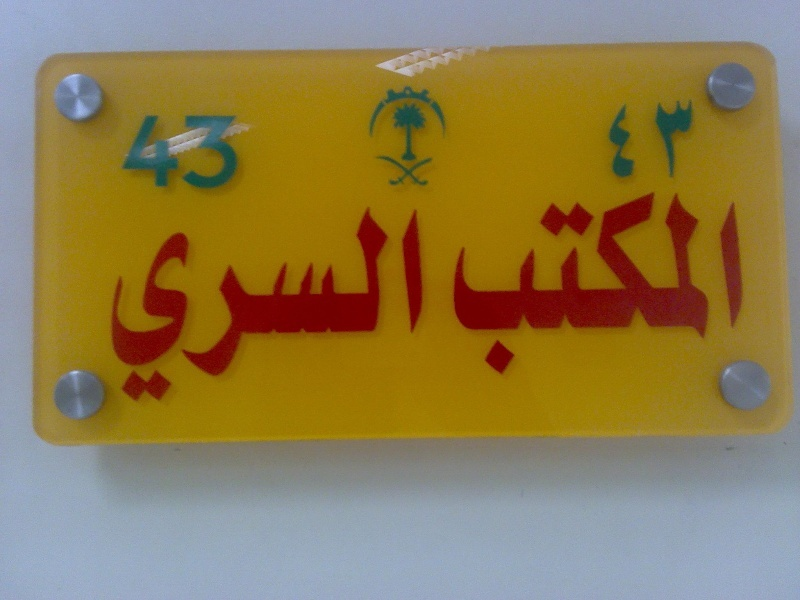text: (113, 200, 128, 411), (129, 200, 144, 411), (145, 200, 160, 411), (161, 200, 176, 411), (177, 200, 192, 411), (193, 200, 208, 411), (209, 200, 224, 411), (225, 200, 240, 411), (241, 200, 256, 411), (257, 200, 272, 411), (273, 200, 288, 411), (289, 200, 304, 411), (305, 200, 320, 411), (321, 200, 336, 411), (337, 200, 352, 411), (353, 200, 368, 411), (369, 200, 384, 411), (385, 200, 400, 411), (401, 200, 416, 411), (465, 188, 480, 382), (481, 188, 496, 382), (497, 188, 512, 382), (513, 188, 528, 382), (529, 188, 544, 382), (545, 188, 560, 382), (561, 188, 576, 382), (577, 188, 592, 382), (593, 188, 608, 382), (609, 188, 624, 382), (625, 188, 640, 382), (641, 188, 656, 382), (657, 188, 672, 382), (673, 188, 688, 382), (689, 188, 704, 382), (705, 188, 720, 382), (721, 188, 736, 382), (737, 188, 750, 382), (453, 188, 464, 382), (417, 200, 426, 411), (609, 90, 624, 183), (625, 90, 640, 183), (641, 90, 656, 183), (657, 90, 672, 183), (673, 90, 688, 183), (106, 200, 112, 411), (225, 113, 241, 190), (129, 113, 144, 190), (145, 113, 160, 190), (161, 113, 176, 190), (177, 113, 192, 190), (193, 113, 208, 190), (209, 113, 224, 190), (689, 90, 697, 183), (601, 90, 608, 183), (123, 113, 128, 190)
